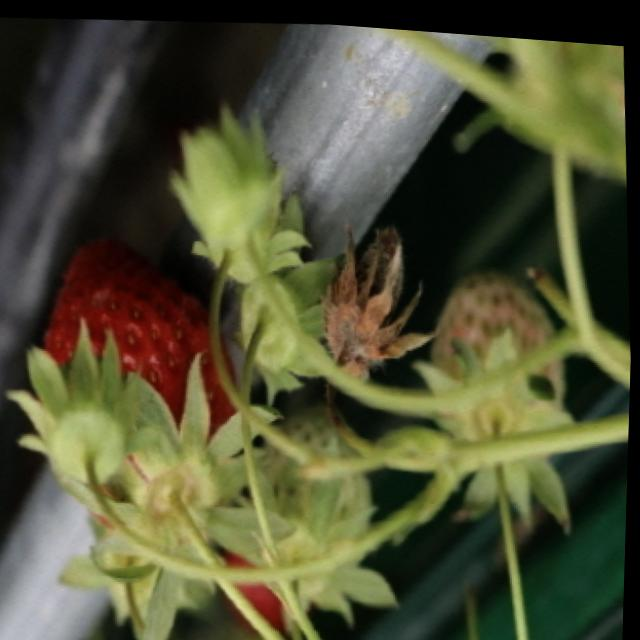Gray Mold: (324, 213, 445, 374)
